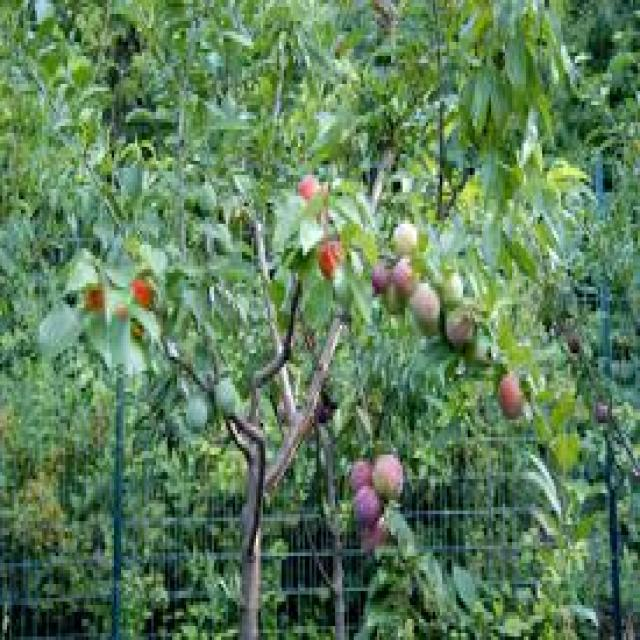Organik: (373, 258, 417, 310), (375, 452, 409, 503), (407, 279, 440, 331), (351, 483, 382, 522), (322, 232, 345, 278), (448, 310, 474, 350), (319, 240, 347, 277), (130, 269, 156, 308), (392, 220, 424, 250), (494, 377, 522, 411), (345, 458, 377, 486), (296, 174, 322, 200), (88, 290, 109, 314)
